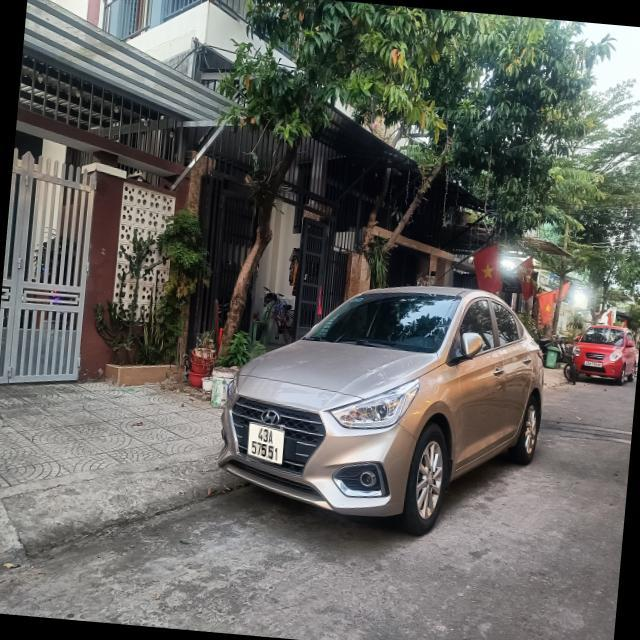car: (208, 281, 553, 531), (565, 316, 639, 387)
plate: (244, 419, 290, 469)
